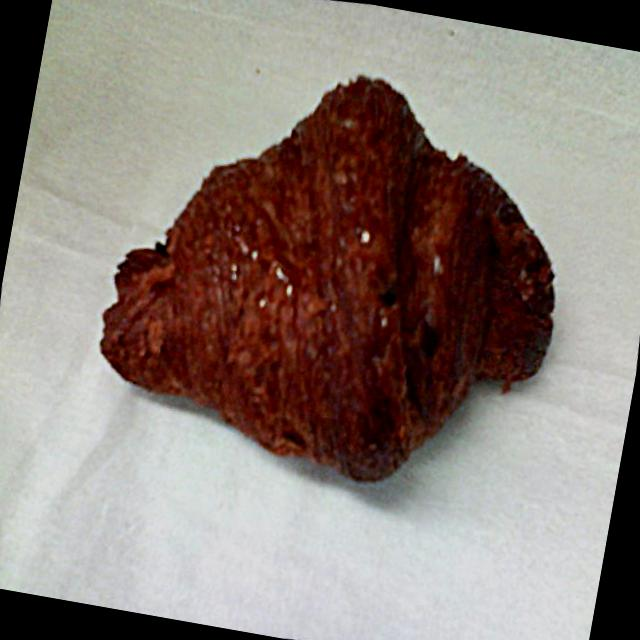Croissant: (52, 6, 620, 546)
